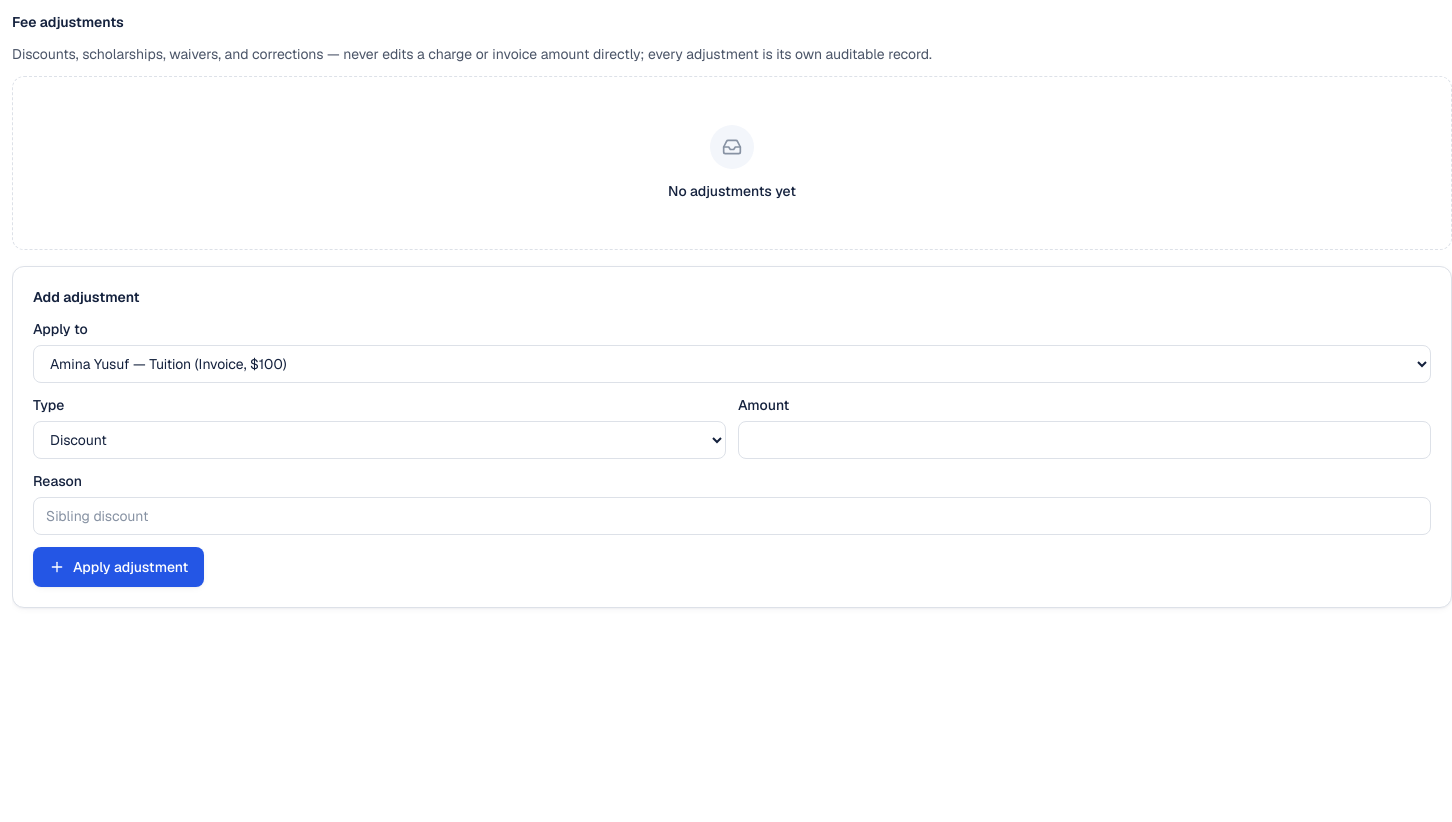
Test case: FeeAdjustmentsTab — create adjustment (mutation) › shows a generic fallback message for a non-ApiError creation failure
Expected: the heading "Add adjustment" is shown, [33,288,140,306]
In the field with placeholder "Sibling discount": (732, 516) [33,497,1431,535], type "Reason"
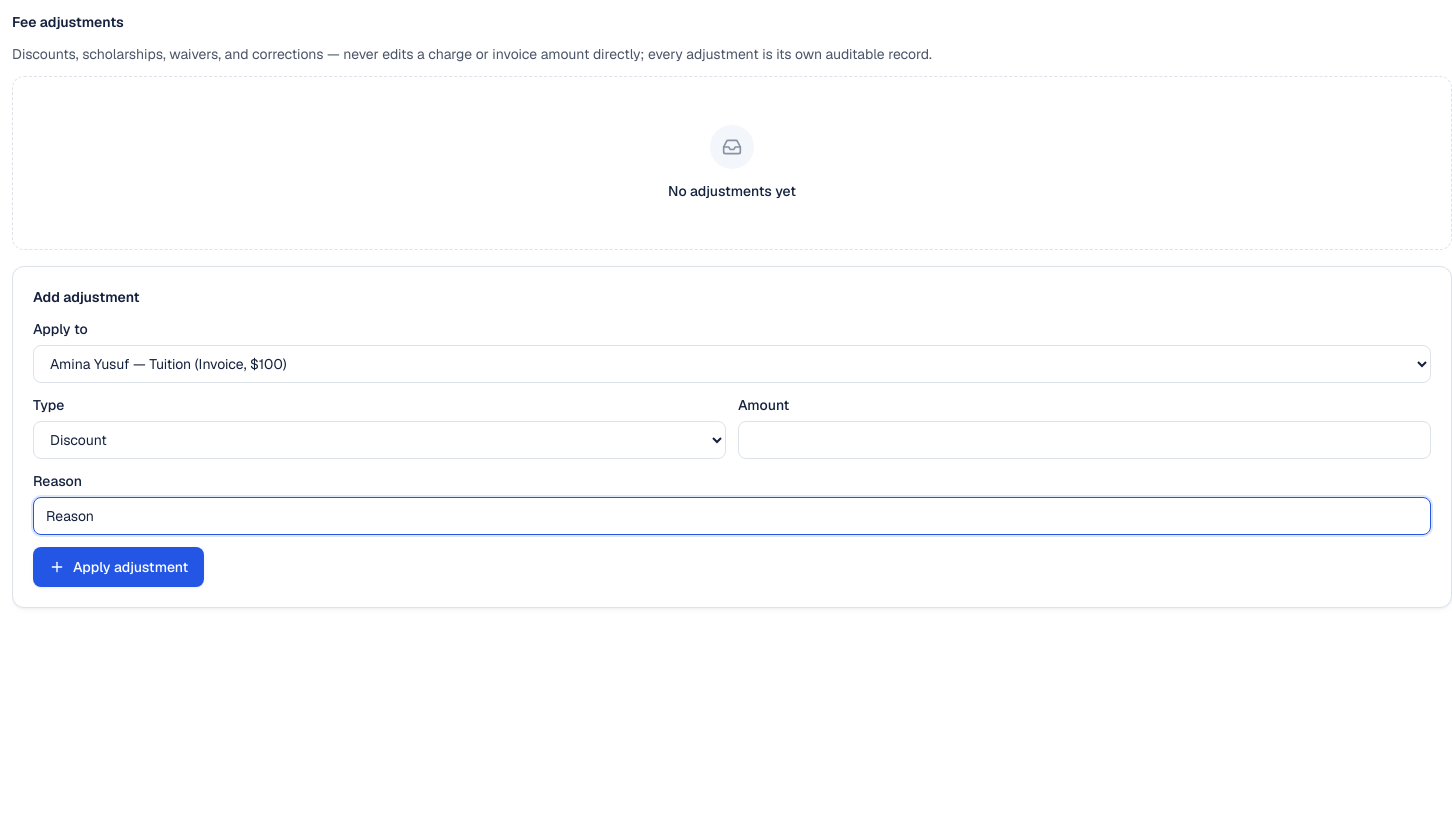
In the number field: (1084, 440) [738,421,1431,459], type "10"
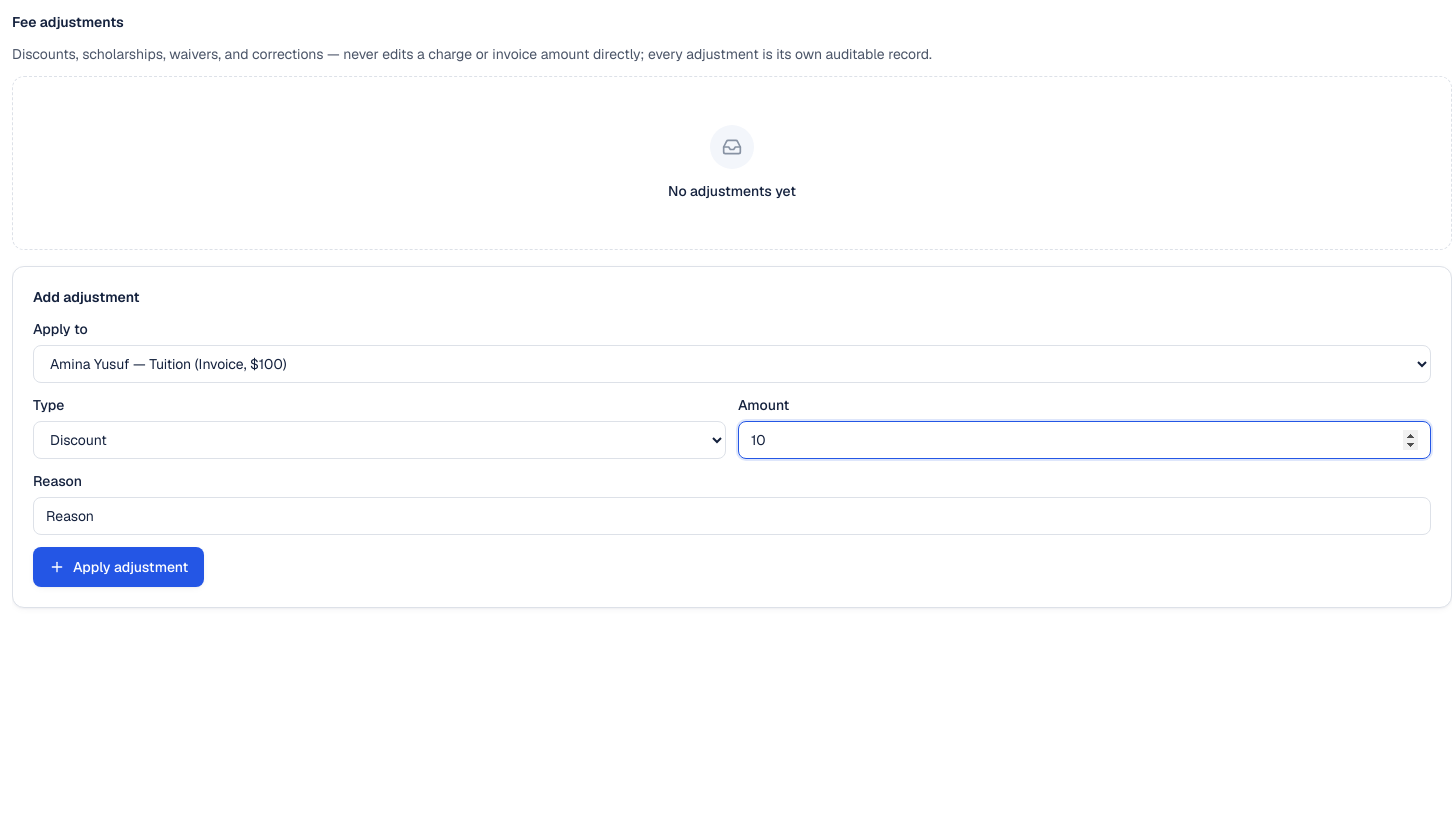
Click the button "Apply adjustment": (119, 567) [33,547,204,587]
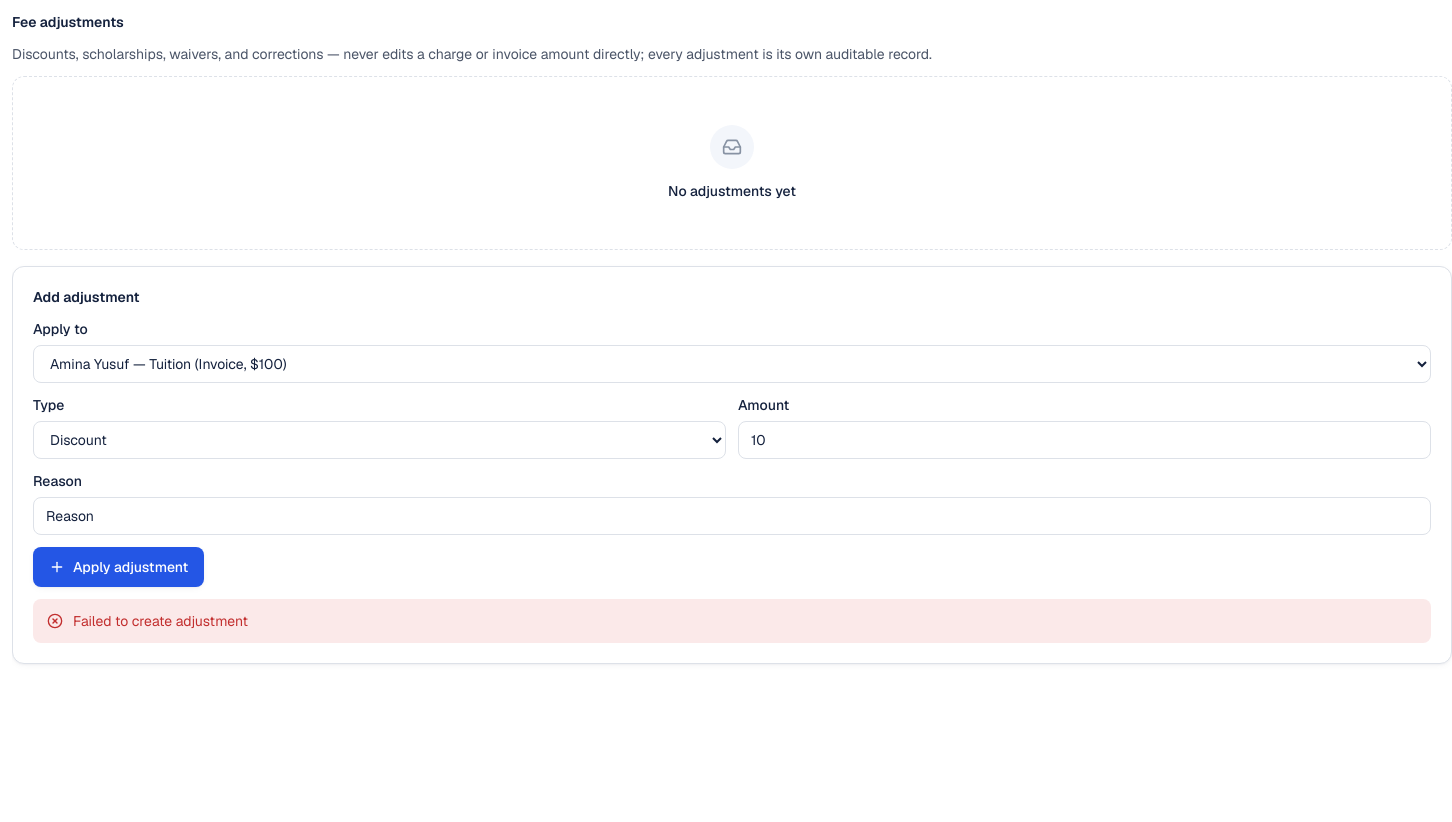
Now the text "Failed to create adjustment" is shown, box [73,611,248,631]
